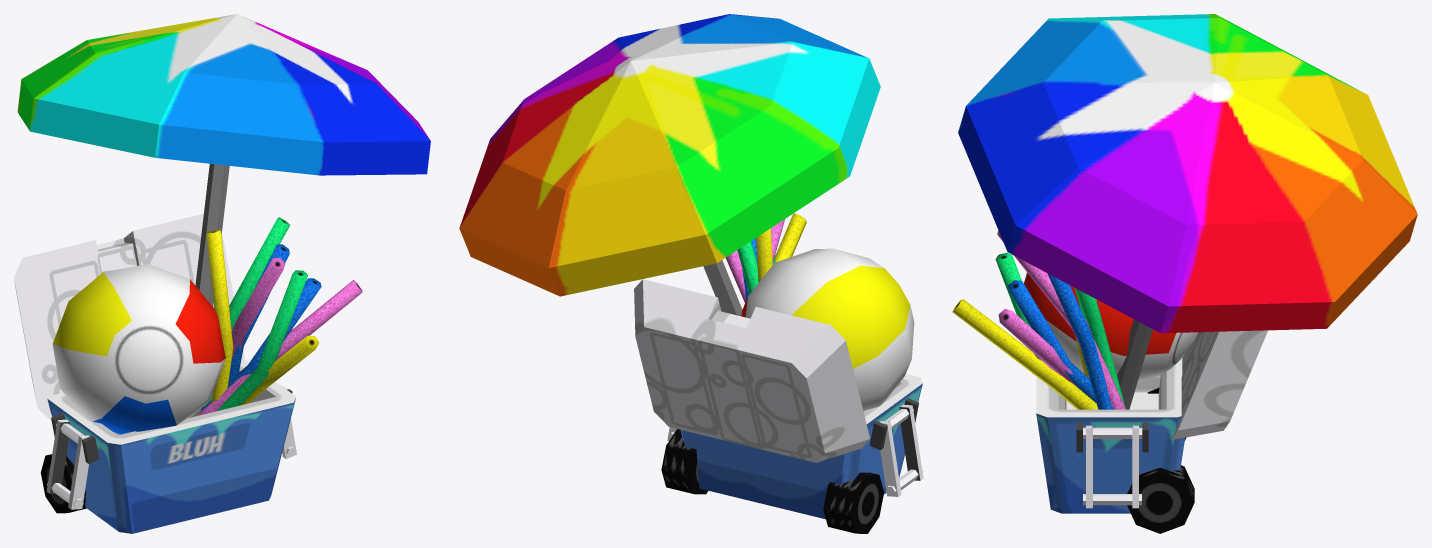
File: coolerA.fbx
3 views of the same model, side by side, from view 1: azimuth 30°, elevation 25°; view 2: azimuth 150°, elevation 25°; view 3: azimuth 270°, elevation 25° (orthographic). The views are drawn at different scales.
Visible parts, largest first — view 1: umbrella|umbrella_low|Dupli|, beachball|beachBall_low|Dupli|, coolerOpen.001|coolerBase|Dupli|, coolerOpen.001|coolerLid|Dupli|0.1, poolNoodles.001|noodles|Dupli|, poolNoodles.003|noodles|Dupli|, coolerOpen.001|handle|Dupli|0.2, coolerOpen.001|wheels|Dupli|3, coolerOpen.001|handlebrace|Dupli|1.2; view 2: umbrella|umbrella_low|Dupli|, coolerOpen.001|coolerLid|Dupli|0.1, beachball|beachBall_low|Dupli|, coolerOpen.001|coolerBase|Dupli|, coolerOpen.001|wheels|Dupli|3, coolerOpen.001|handle|Dupli|0.2, poolNoodles.003|noodles|Dupli|, poolNoodles.001|noodles|Dupli|; view 3: umbrella|umbrella_low|Dupli|, coolerOpen.001|coolerBase|Dupli|, poolNoodles.001|noodles|Dupli|, coolerOpen.001|coolerLid|Dupli|0.1, poolNoodles.003|noodles|Dupli|, beachball|beachBall_low|Dupli|, coolerOpen.001|wheels|Dupli|3, coolerOpen.001|handle|Dupli|0.1.
Boxes of the visible parts, x1,y1,x2,y2 form: umbrella|umbrella_low|Dupli|: [17, 14, 430, 417]; beachball|beachBall_low|Dupli|: [52, 264, 225, 434]; coolerOpen.001|coolerBase|Dupli|: [47, 357, 296, 533]; coolerOpen.001|coolerLid|Dupli|0.1: [14, 213, 244, 420]; poolNoodles.001|noodles|Dupli|: [198, 270, 362, 415]; poolNoodles.003|noodles|Dupli|: [202, 217, 290, 407]; coolerOpen.001|handle|Dupli|0.2: [46, 419, 89, 509]; coolerOpen.001|wheels|Dupli|3: [40, 454, 86, 513]; coolerOpen.001|handlebrace|Dupli|1.2: [51, 413, 99, 463]; umbrella|umbrella_low|Dupli|: [459, 14, 880, 316]; coolerOpen.001|coolerLid|Dupli|0.1: [634, 279, 869, 462]; beachball|beachBall_low|Dupli|: [741, 248, 914, 411]; coolerOpen.001|coolerBase|Dupli|: [680, 374, 922, 519]; coolerOpen.001|wheels|Dupli|3: [661, 429, 884, 533]; coolerOpen.001|handle|Dupli|0.2: [880, 404, 923, 496]; poolNoodles.003|noodles|Dupli|: [737, 219, 784, 301]; poolNoodles.001|noodles|Dupli|: [726, 213, 806, 302]; umbrella|umbrella_low|Dupli|: [958, 14, 1417, 409]; coolerOpen.001|coolerBase|Dupli|: [1036, 358, 1184, 513]; poolNoodles.001|noodles|Dupli|: [952, 252, 1098, 409]; coolerOpen.001|coolerLid|Dupli|0.1: [1171, 330, 1267, 439]; poolNoodles.003|noodles|Dupli|: [997, 230, 1125, 409]; beachball|beachBall_low|Dupli|: [1024, 272, 1197, 383]; coolerOpen.001|wheels|Dupli|3: [1127, 388, 1194, 533]; coolerOpen.001|handle|Dupli|0.1: [1083, 425, 1142, 508].
Bounding box in the file's own units: 409 × 442 × 398.
